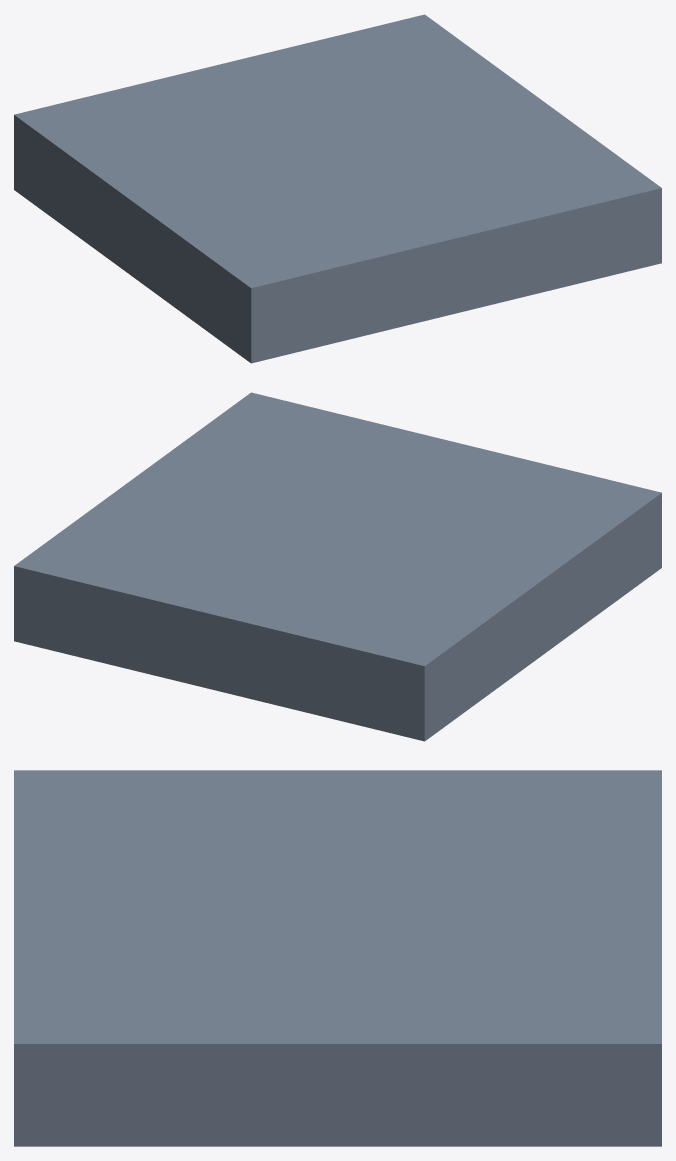
File: g_t_WorkshopFloor.fbx
The picture shows the model from 3 angles, top to bottom: view 1: azimuth 30°, elevation 25°; view 2: azimuth 150°, elevation 25°; view 3: azimuth 270°, elevation 25°; orthographic projection. The views are drawn at different scales.
Visible parts, largest first — view 1: g_t_WorkshopFloor; view 2: g_t_WorkshopFloor; view 3: g_t_WorkshopFloor.
Boxes of the visible parts, x1,y1,x2,y2 form: g_t_WorkshopFloor: (14,14,661,363); g_t_WorkshopFloor: (14,392,661,741); g_t_WorkshopFloor: (14,770,661,1146).
Size of the model in its own units: 100 by 17.5 by 100.
